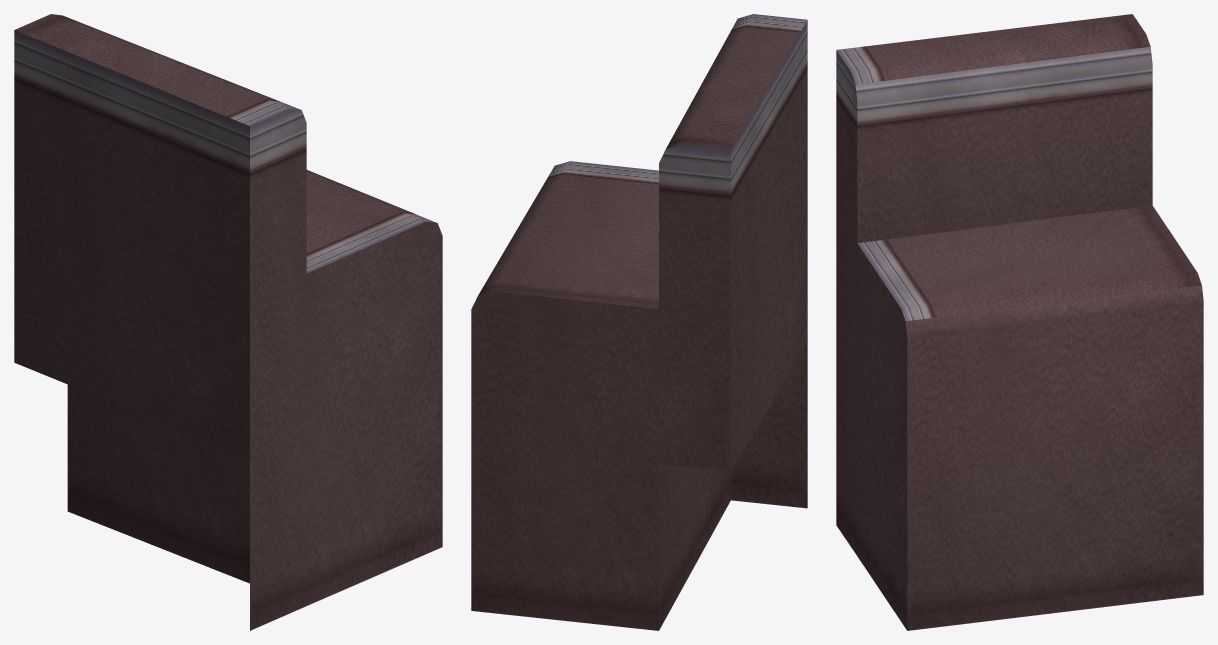
File: prop_seat.gltf
The picture shows the model from 3 angles, left to right: view 1: azimuth 30°, elevation 25°; view 2: azimuth 150°, elevation 25°; view 3: azimuth 270°, elevation 25°; orthographic projection. The views are drawn at different scales.
Parts seen in each view (by area): view 1: cube11; view 2: cube11; view 3: cube11.
Part boxes in pixels (x1,y1,x2,y2): cube11: (14, 14, 442, 630); cube11: (471, 14, 807, 630); cube11: (836, 14, 1203, 630).
Bounding box in the file's own units: 1.76 × 2.75 × 1.93.
Materials: 1 (1 with a texture image).
